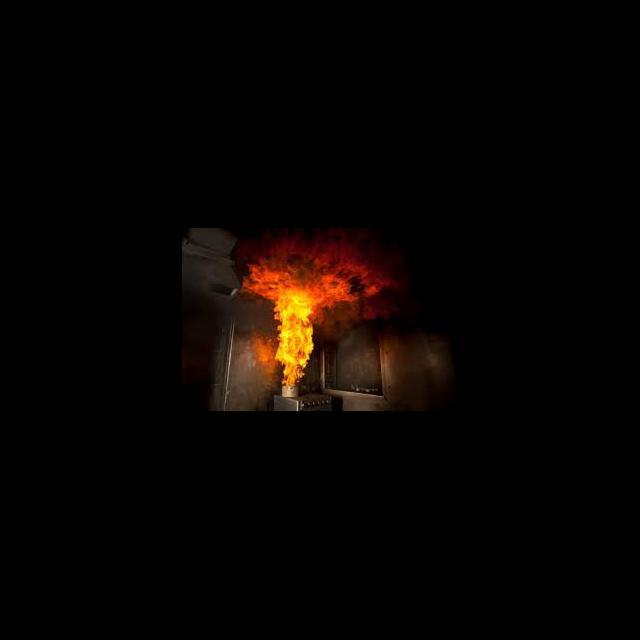Fire: (239, 235, 392, 388)
